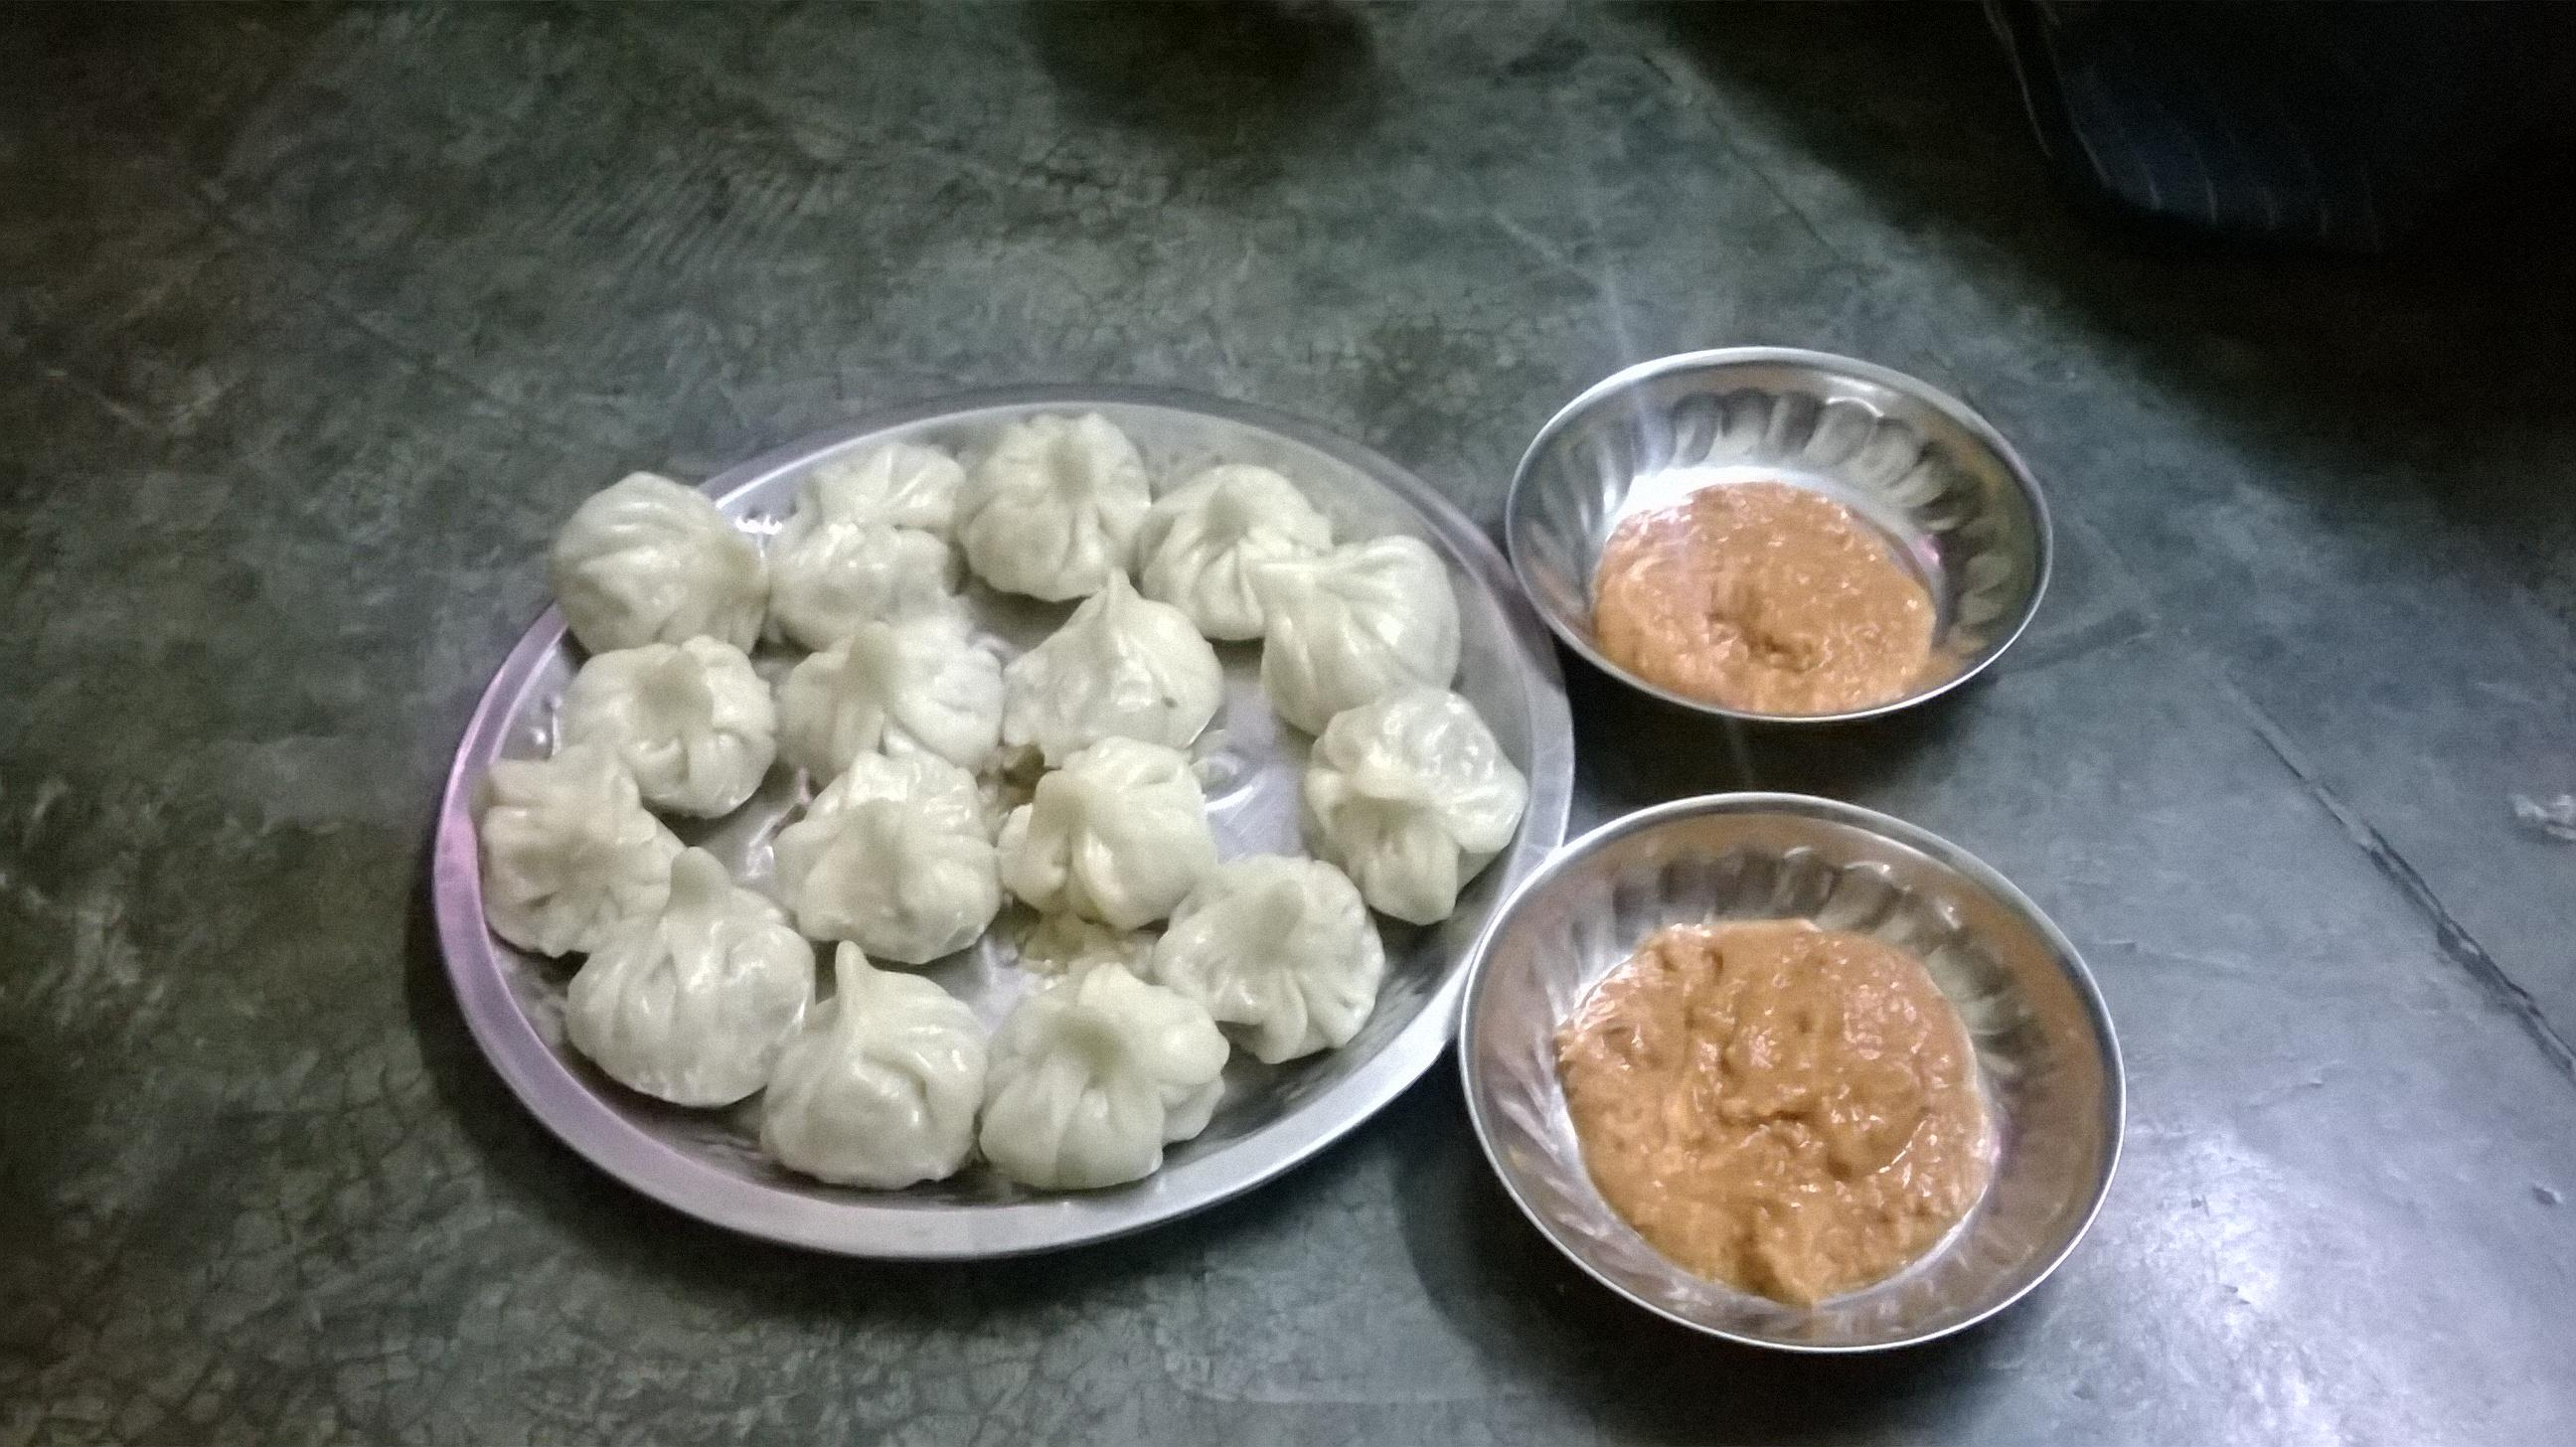momos: (563, 846, 816, 1107), (982, 961, 1228, 1187), (759, 941, 985, 1187), (1304, 685, 1529, 925), (775, 750, 1001, 966), (1152, 856, 1384, 1061), (472, 745, 685, 955), (1001, 568, 1223, 769), (996, 734, 1217, 930), (1253, 532, 1460, 734), (764, 442, 961, 649), (548, 472, 770, 655), (559, 633, 775, 815), (780, 614, 1007, 785), (955, 412, 1152, 598), (1138, 463, 1334, 639)
